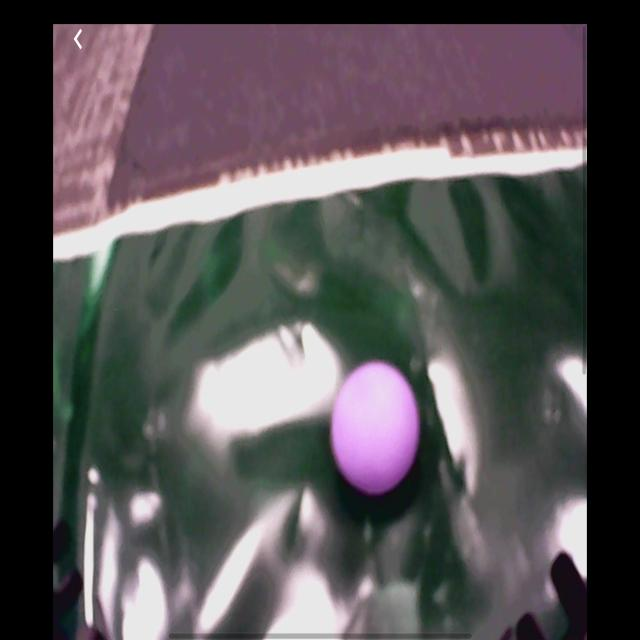ball: (332, 363, 419, 497)
